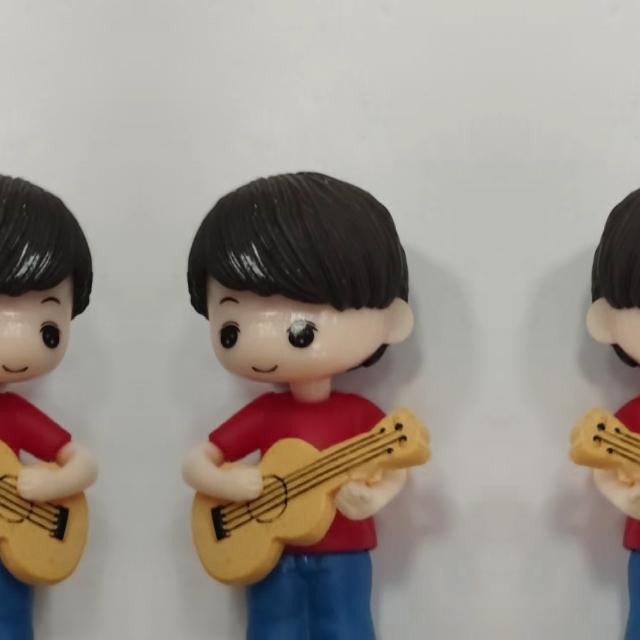man cloth: (210, 391, 408, 557), (0, 391, 70, 557), (592, 391, 640, 557)
man head: (183, 168, 417, 394), (0, 167, 97, 394), (583, 167, 640, 394)
trousers: (238, 559, 386, 637), (0, 559, 41, 637), (614, 559, 640, 637)
